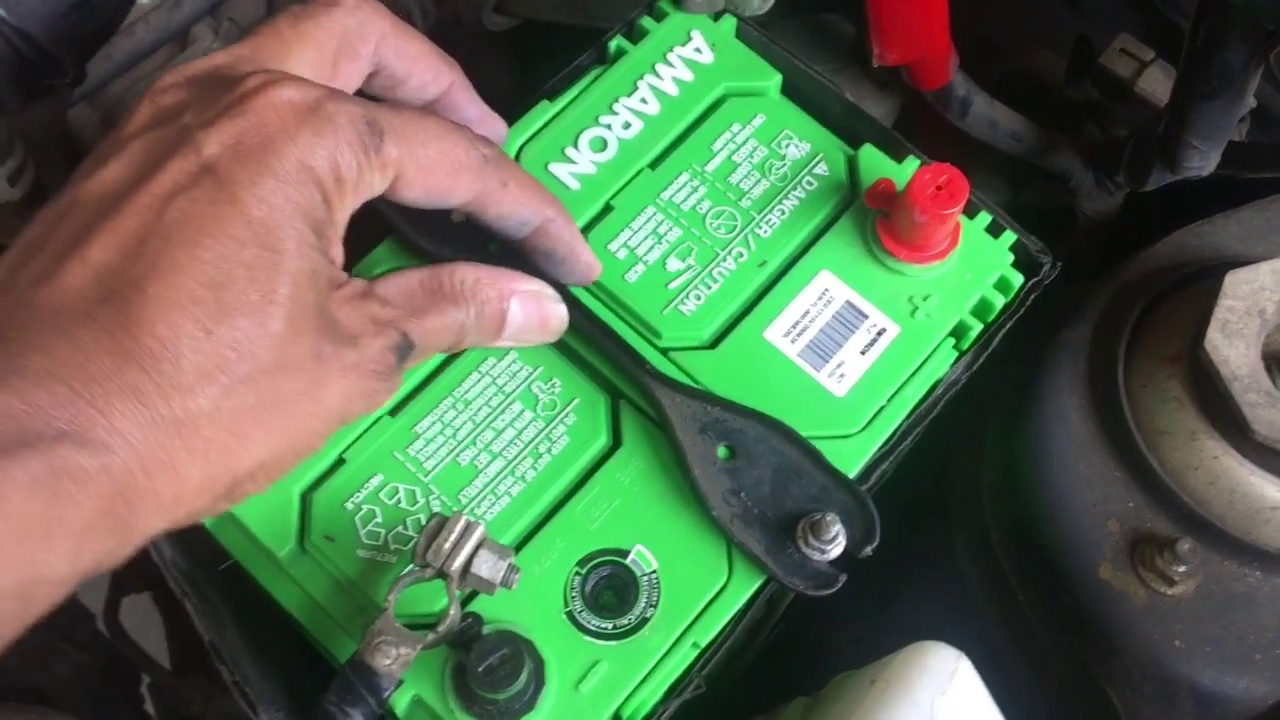battery: (189, 20, 1017, 720)
pos_disconnected: (842, 3, 975, 280)
